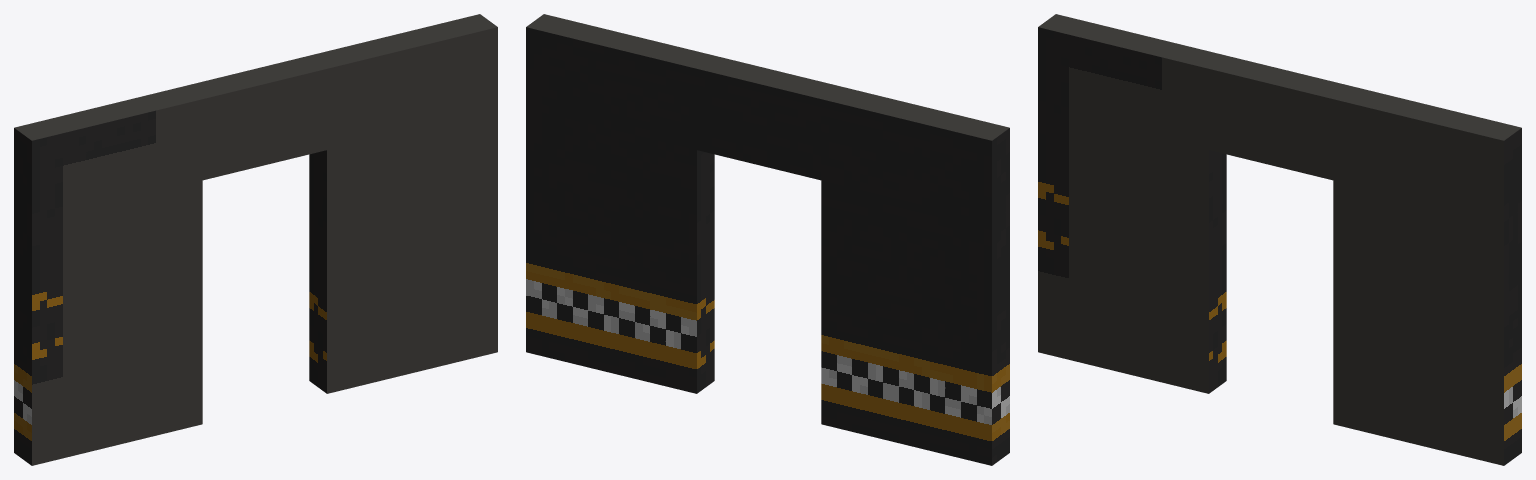
File: door-frame.gltf
The picture shows the model from 3 angles, left to right: view 1: azimuth 30°, elevation 25°; view 2: azimuth 150°, elevation 25°; view 3: azimuth 330°, elevation 25°; orthographic projection.
Visible parts, largest first — view 1: cuboid; view 2: cuboid; view 3: cuboid.
Part boxes in pixels (x1=…): cuboid: x1=14, y1=14, x2=497, y2=465; cuboid: x1=526, y1=14, x2=1009, y2=465; cuboid: x1=1038, y1=14, x2=1521, y2=465.
Size of the model in its own units: 3.75 by 2.5 by 0.25.
Materials: 1 (1 with a texture image).
